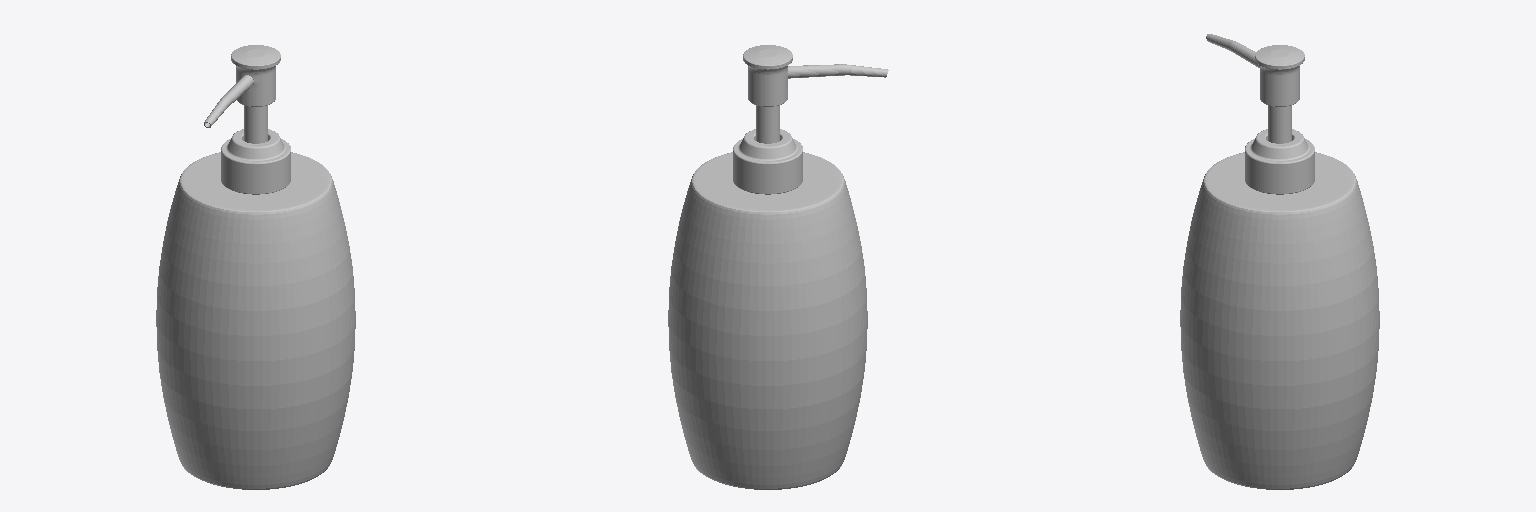
File: jabon.obj
3 views of the same model, side by side, from view 1: azimuth 30°, elevation 25°; view 2: azimuth 150°, elevation 25°; view 3: azimuth 270°, elevation 25° (orthographic).
Parts seen in each view (by area): view 1: Arch46_034_4.001, crema.001; view 2: Arch46_034_4.001, crema.001; view 3: Arch46_034_4.001, crema.001.
Boxes of the visible parts, x1=… form: Arch46_034_4.001: x1=156, y1=152, x2=355, y2=489; crema.001: x1=204, y1=45, x2=290, y2=194; Arch46_034_4.001: x1=668, y1=152, x2=867, y2=489; crema.001: x1=733, y1=45, x2=888, y2=194; Arch46_034_4.001: x1=1180, y1=152, x2=1379, y2=489; crema.001: x1=1206, y1=34, x2=1314, y2=194.
Size of the model in its own units: 0.0686 by 0.1537 by 0.0686.